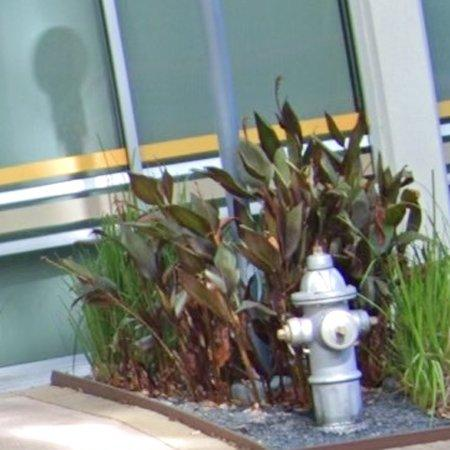a fire hydrant: (278, 252, 378, 433)
